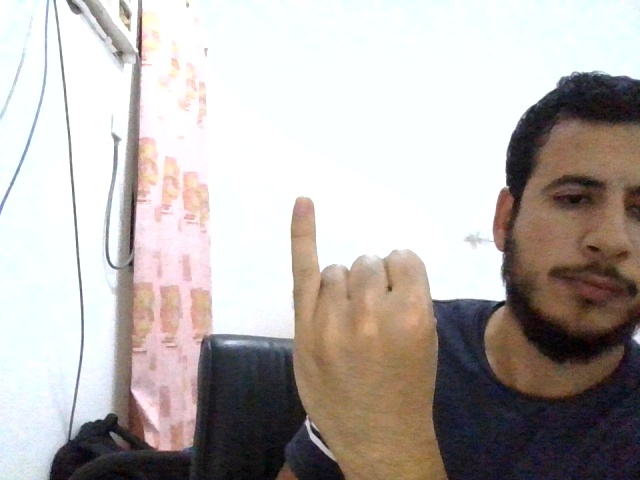One: (290, 196, 440, 442)
